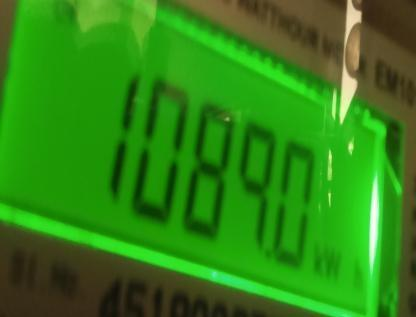.: (304, 244, 370, 294)
0: (261, 245, 274, 265)
1: (133, 84, 187, 226), (273, 144, 314, 273)
2: (105, 75, 141, 206)
9: (187, 108, 237, 243)
:: (237, 122, 277, 251)
